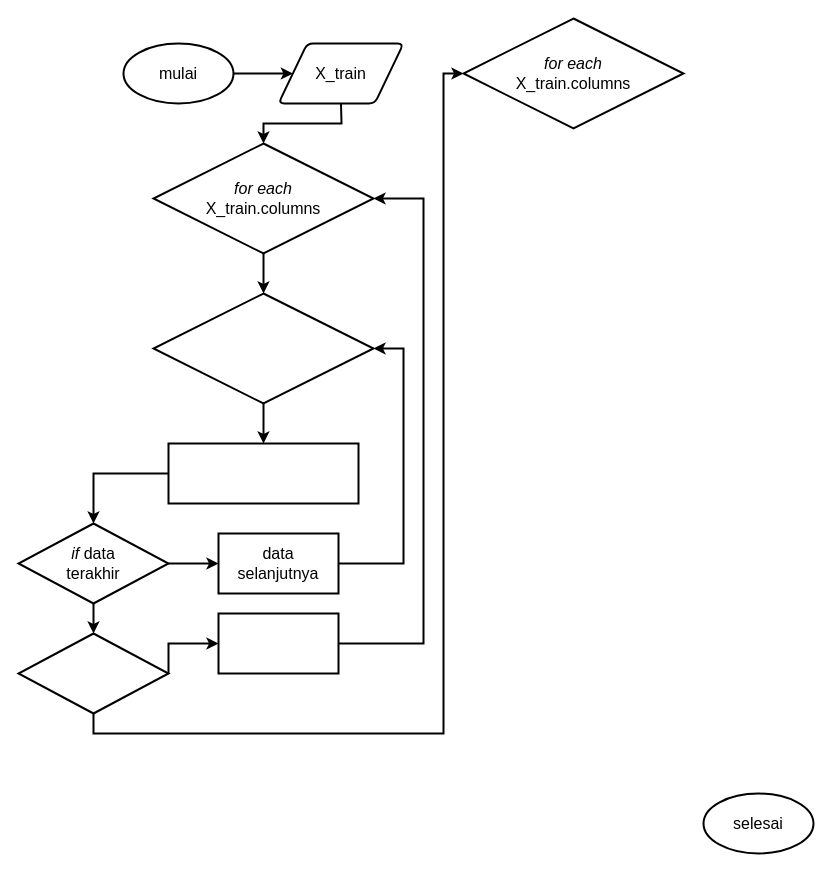
Some shapes in this 831 by 871 pixel diagram are drawn without their labels. The shapes that lost their labels are listed below. From the top down, each one's centre as x and y in pixels, then its label:
pixel 263 348: for each Series = NaN
pixel 263 473: fillna("most_frequent")
pixel 278 643: kolom selanjutnya
pixel 93 673: if kolom terakhir
